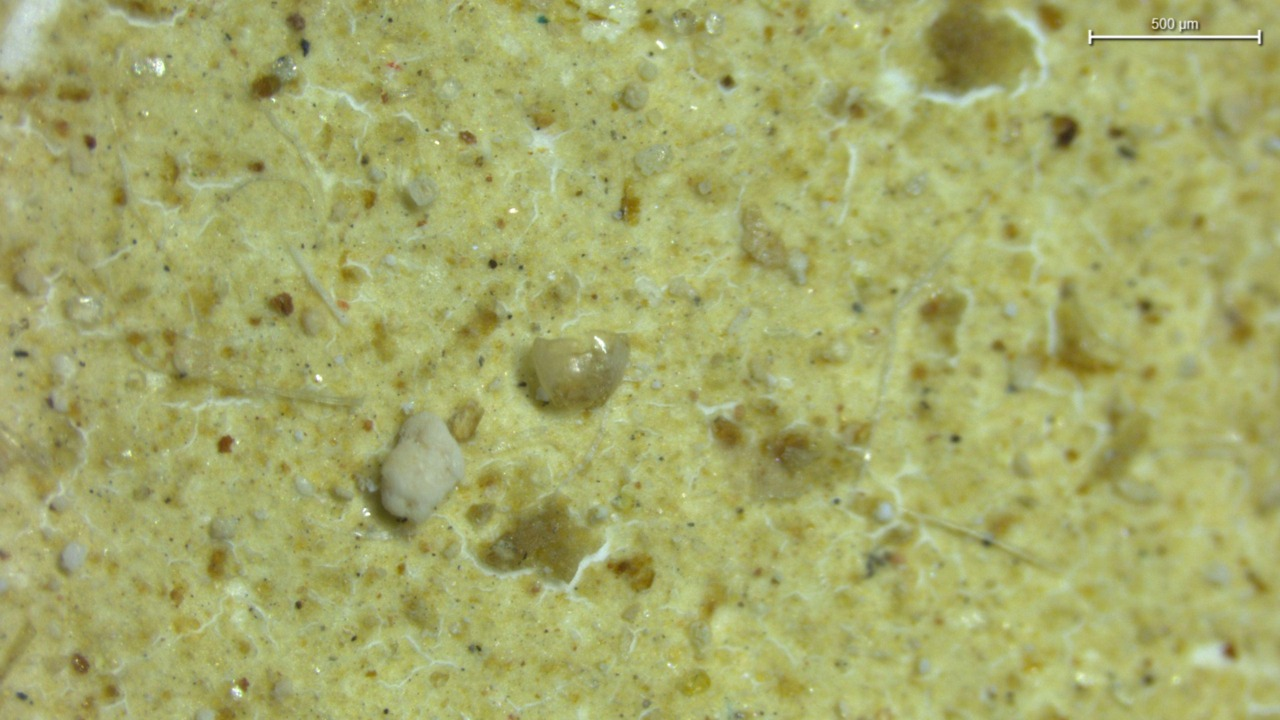microplastic_fragment: (380, 412, 465, 522), (60, 542, 87, 573)
